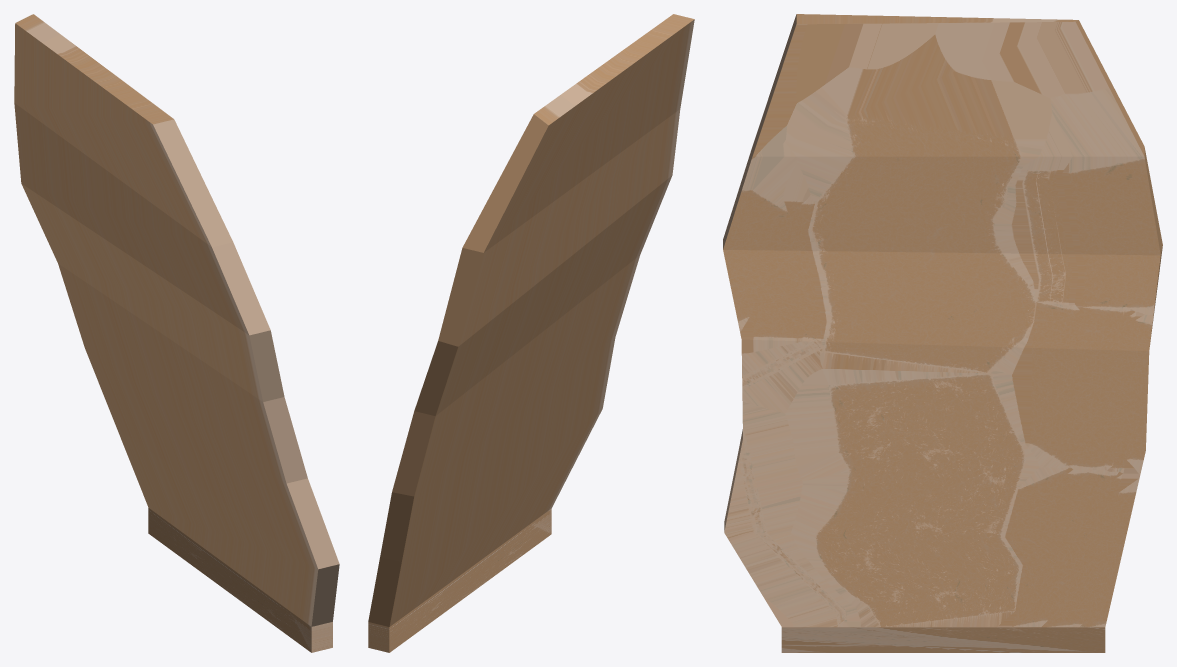
File: RoboBerta - Papelao.fbx
3 renders of one model, left to right at view 1: azimuth 30°, elevation 25°; view 2: azimuth 150°, elevation 25°; view 3: azimuth 270°, elevation 25°, orthographic.
Visible parts, largest first — view 1: ParteRotacional; view 2: ParteRotacional; view 3: ParteRotacional.
Part boxes in pixels (x1,y1,x2,y2): ParteRotacional: (14, 14, 339, 652); ParteRotacional: (368, 14, 694, 652); ParteRotacional: (723, 14, 1162, 652).
Size of the model in its own units: 122 by 380 by 272.
